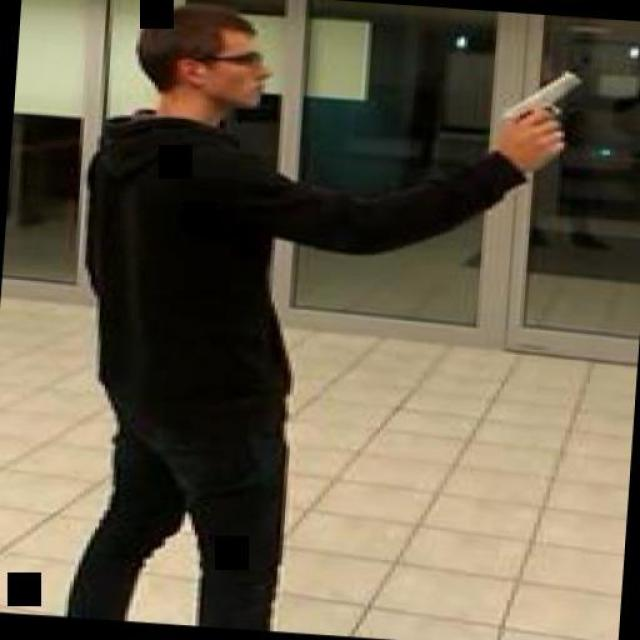gun: (496, 61, 576, 148)
